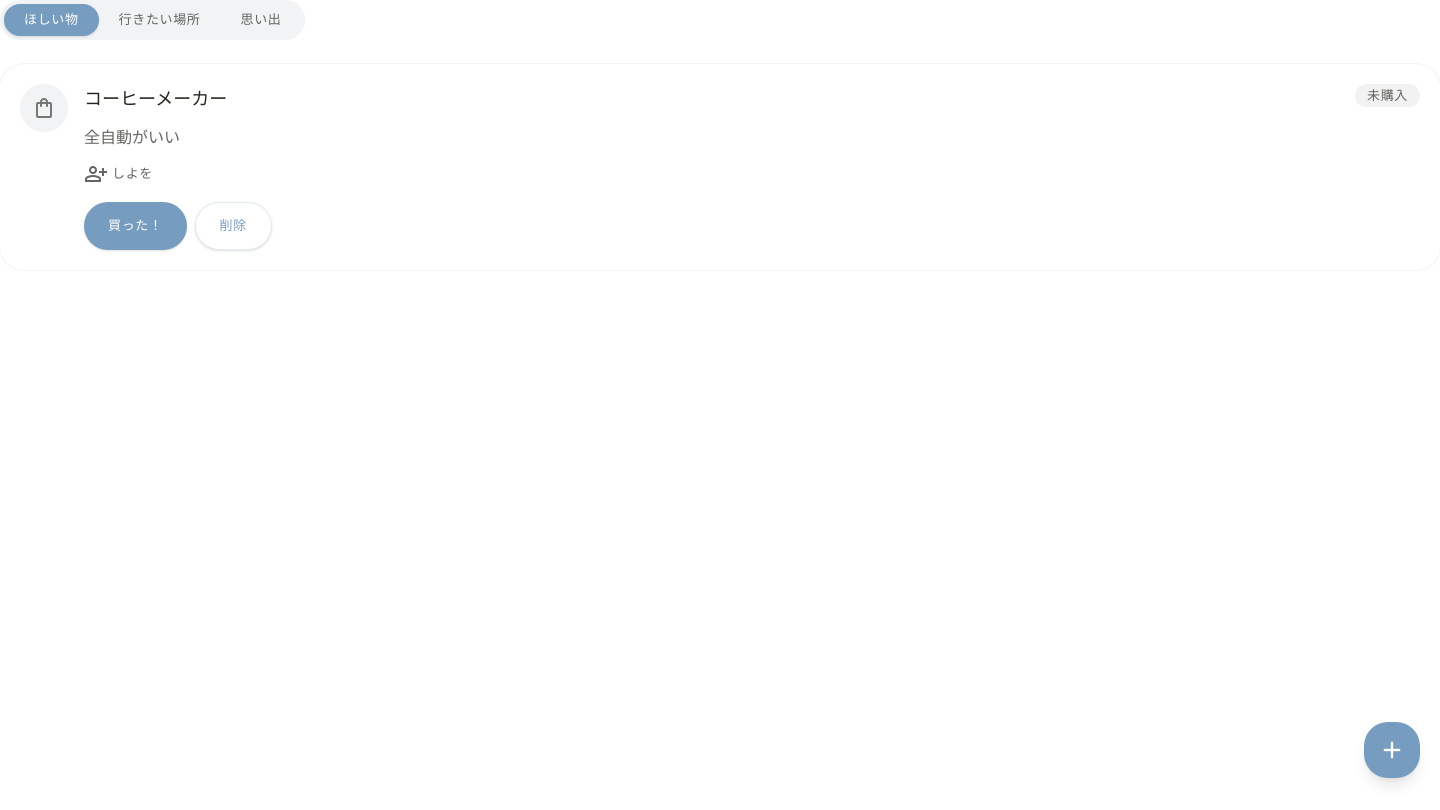
Test: WishlistBoard 統合 › タイトルをタップすると詳細が出る（#105）
The width and height of the screenshot is (1440, 810).
Click the button with aria-label "コーヒーメーカー の詳細" at (156, 98), box [84, 84, 227, 112]
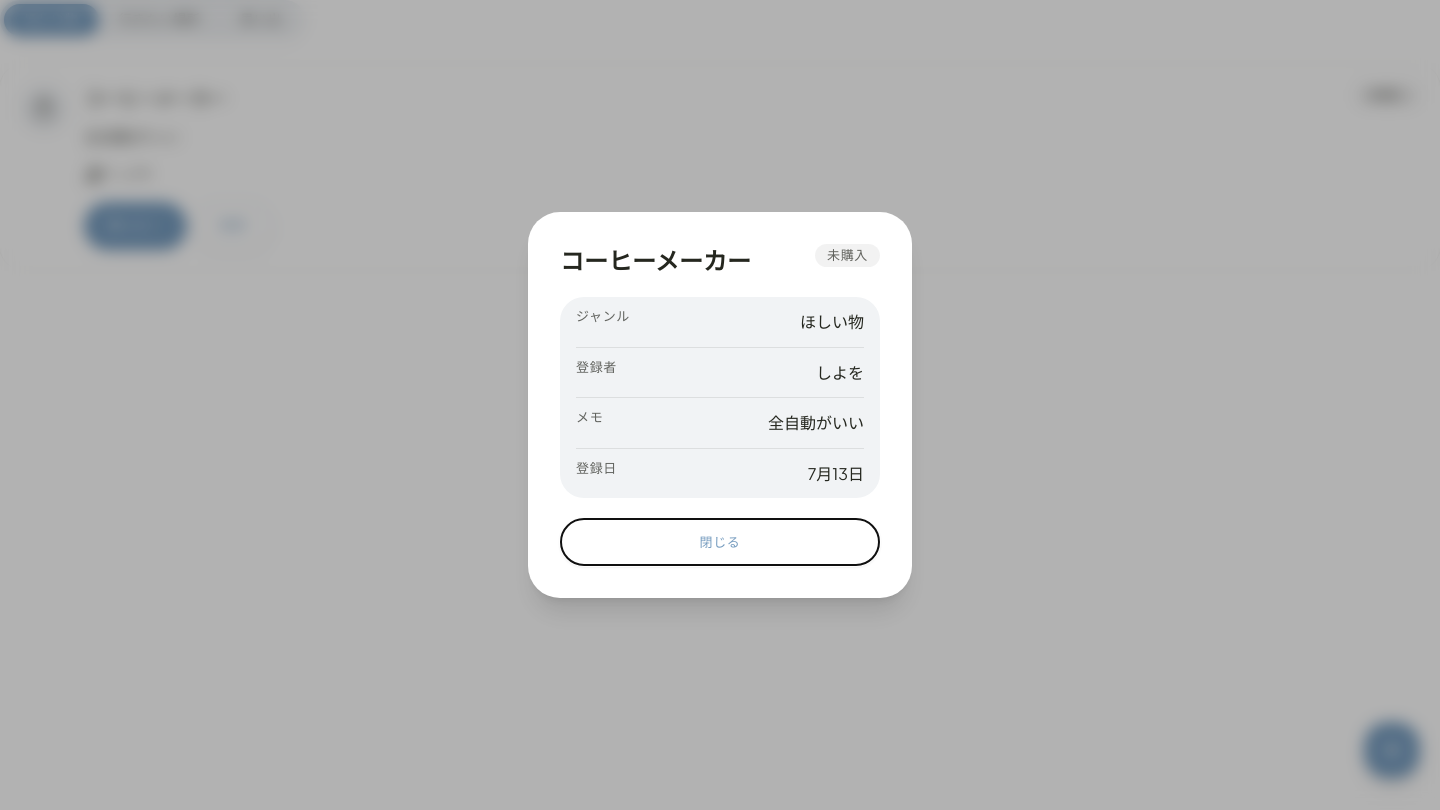
expect the text "ほしい物" is shown: met, box [800, 309, 864, 335]
expect the text "しよを" is shown: met, box [816, 360, 864, 385]
expect the text "全自動がいい" is shown: met, box [768, 410, 864, 436]
